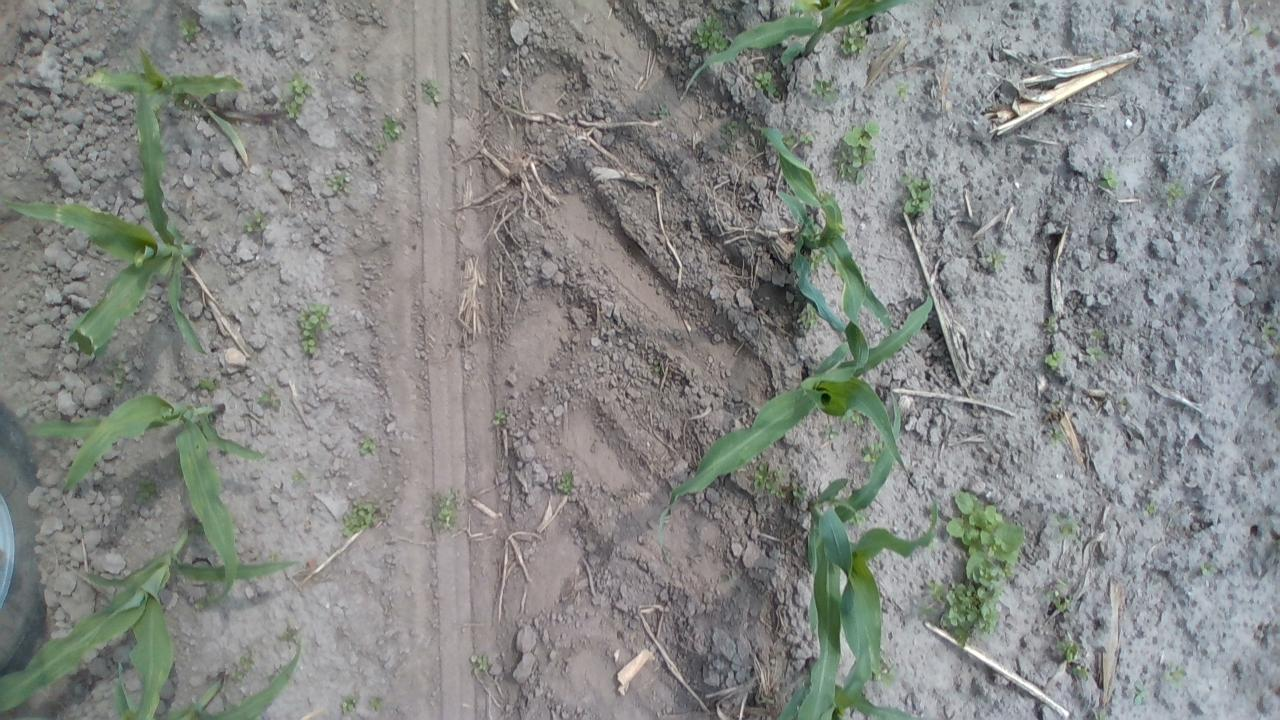Maize: (651, 273, 940, 542), (0, 83, 215, 359), (0, 526, 304, 718), (28, 385, 258, 608), (791, 387, 940, 720), (760, 123, 897, 348), (73, 45, 264, 167), (676, 0, 904, 102), (105, 638, 306, 720), (781, 664, 936, 720)
Weeds: (923, 485, 1025, 656), (750, 462, 816, 514), (830, 121, 881, 185), (296, 298, 335, 359), (280, 70, 318, 126), (338, 495, 384, 539), (429, 485, 464, 540), (220, 644, 264, 687), (896, 172, 936, 218), (688, 13, 732, 54), (840, 19, 874, 64), (98, 352, 136, 391), (1041, 575, 1076, 613), (234, 206, 272, 240), (418, 78, 450, 114), (748, 66, 780, 102), (382, 110, 412, 148), (716, 120, 748, 154), (272, 620, 308, 650), (130, 478, 160, 512), (256, 380, 286, 414), (809, 75, 841, 106), (468, 650, 500, 680), (287, 464, 313, 498), (979, 244, 1008, 274), (1056, 512, 1086, 541), (1160, 177, 1188, 207), (174, 14, 203, 42), (860, 440, 886, 471), (1056, 636, 1084, 664), (324, 170, 354, 196), (1158, 662, 1186, 689), (799, 304, 823, 334), (555, 467, 578, 498), (782, 127, 814, 149), (1044, 421, 1072, 446), (1092, 168, 1120, 193), (346, 66, 372, 92), (877, 664, 899, 694), (808, 244, 828, 277), (841, 407, 866, 432), (1043, 350, 1067, 375), (890, 78, 912, 105), (1258, 324, 1279, 352), (356, 434, 380, 458), (339, 693, 362, 718), (652, 102, 674, 128), (1082, 342, 1105, 366), (1130, 681, 1154, 704), (1069, 662, 1094, 684), (1198, 560, 1224, 581), (1138, 495, 1159, 520), (1244, 20, 1267, 42), (1041, 313, 1060, 339), (367, 694, 390, 714), (1084, 324, 1107, 343), (846, 510, 870, 528), (1088, 704, 1114, 720), (196, 376, 220, 393), (489, 404, 508, 425), (816, 422, 838, 440), (369, 136, 387, 156), (1115, 398, 1129, 409)
